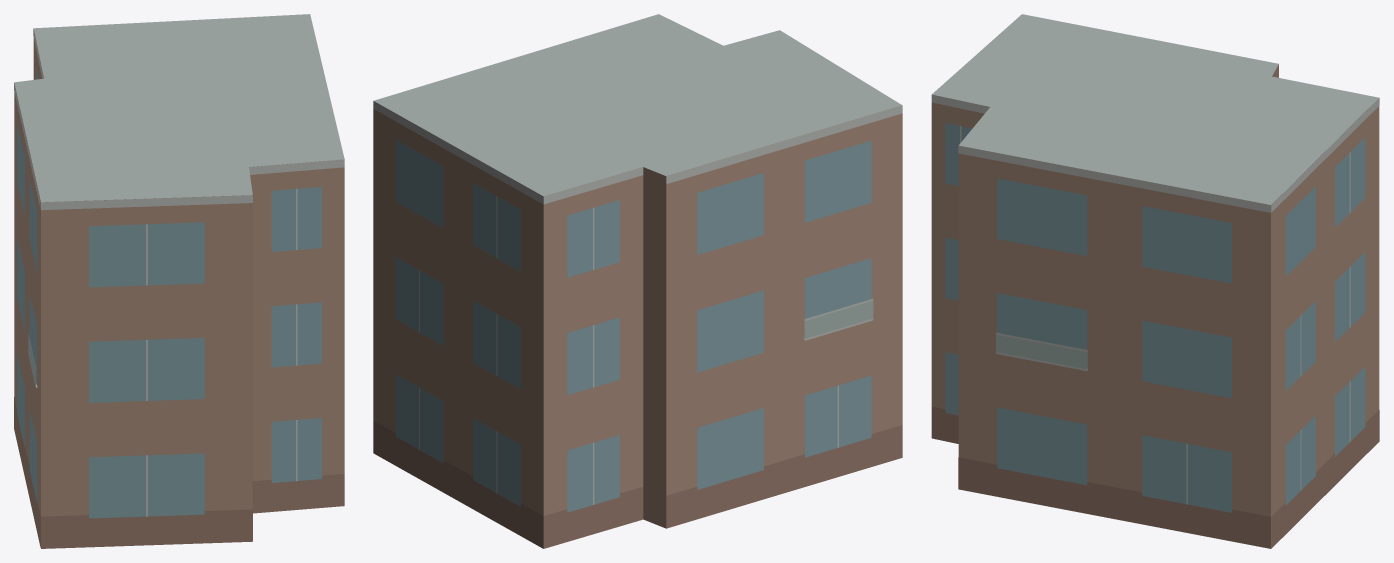
Rendered from survey-upis-32670499.glb.
3 views of the same model, side by side, from view 1: azimuth 30°, elevation 25°; view 2: azimuth 150°, elevation 25°; view 3: azimuth 270°, elevation 25° (orthographic). The views are drawn at different scales.
Parts seen in each view (by area): view 1: survey-upis-32670499.tmp; view 2: survey-upis-32670499.tmp; view 3: survey-upis-32670499.tmp.
Boxes of the visible parts, x1,y1,x2,y2 form: survey-upis-32670499.tmp: (14,14,344,548); survey-upis-32670499.tmp: (373,14,902,548); survey-upis-32670499.tmp: (931,14,1379,548).
Size of the model in its own units: 12.68 by 10.63 by 12.56.
